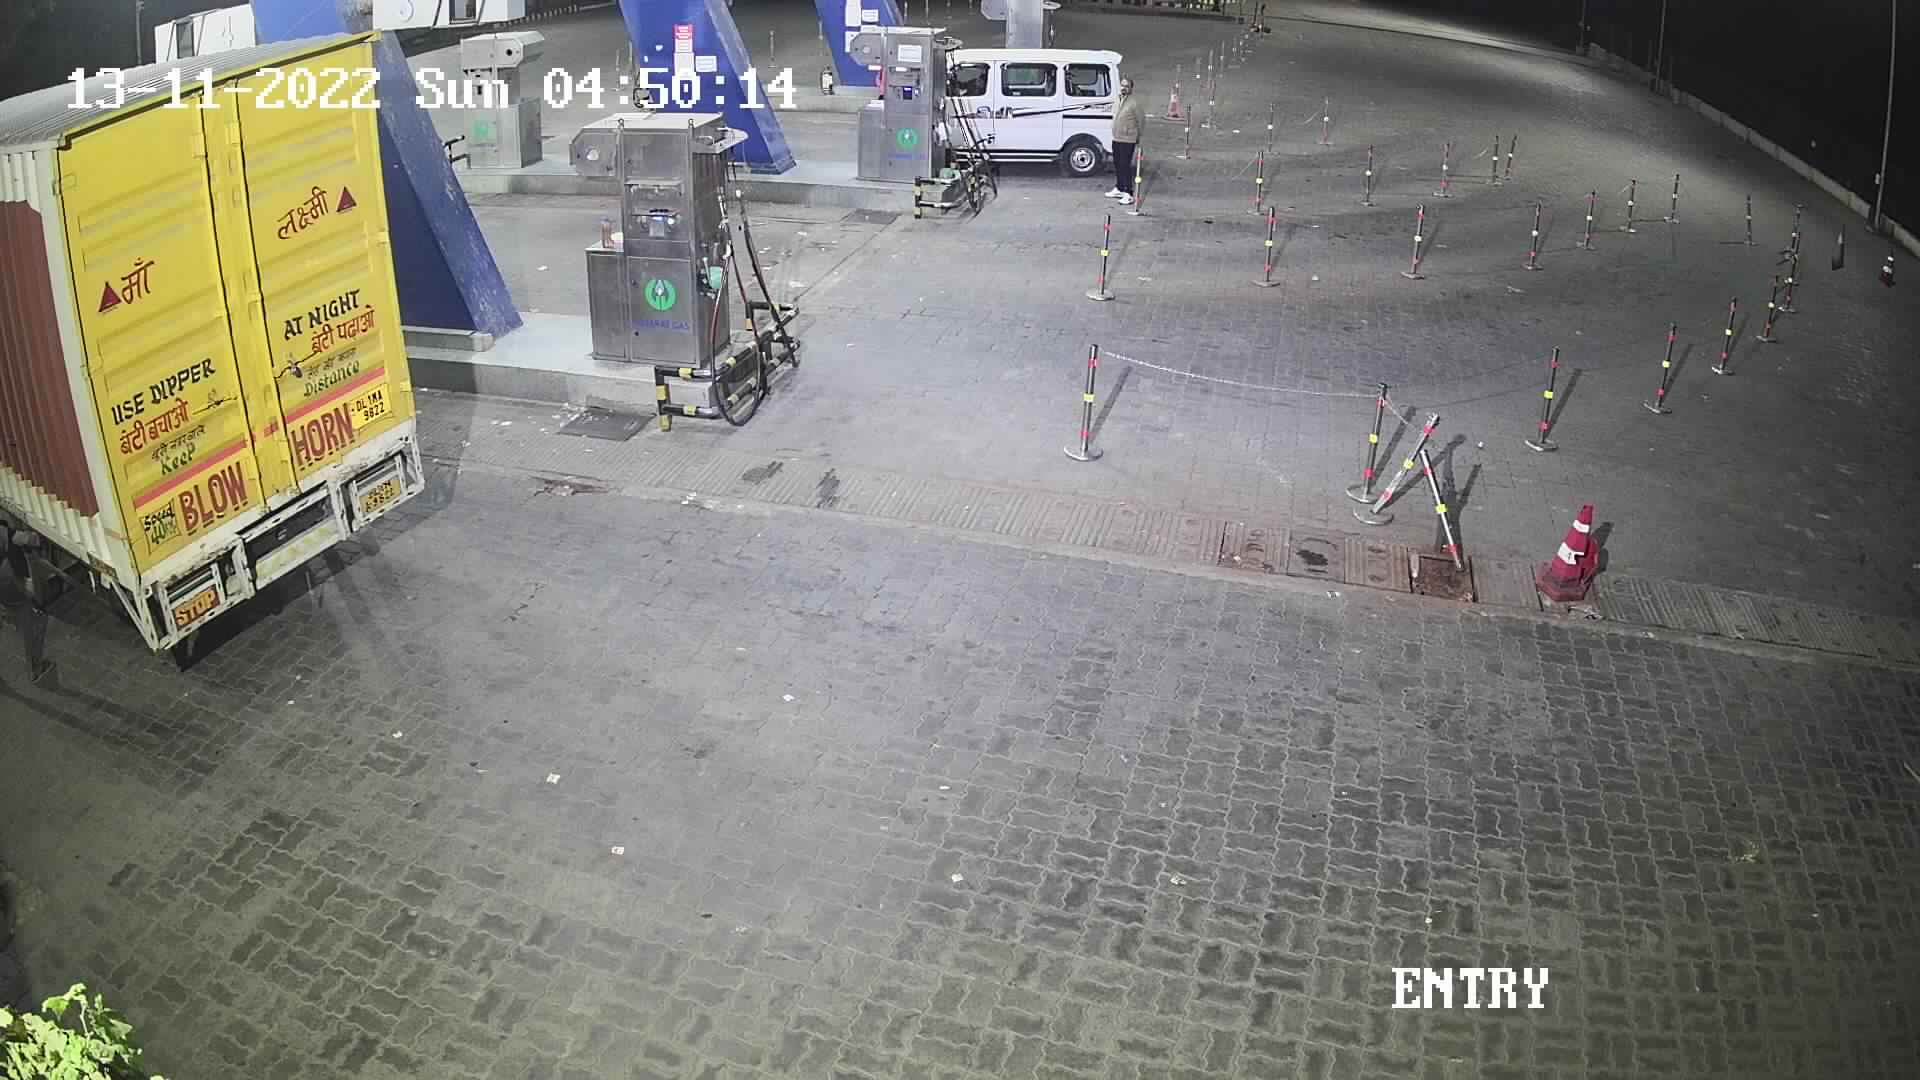Car: (907, 25, 1145, 189)
HMV: (1, 11, 451, 694)
